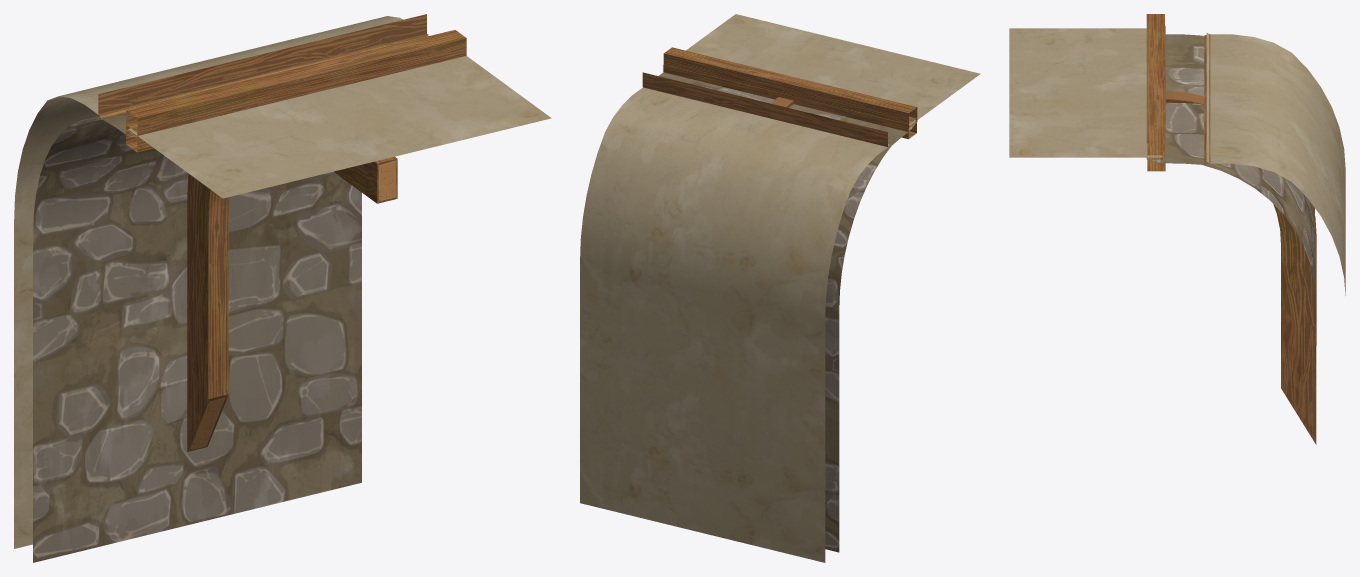
The model's file is Overhang_UnevenBrick_Long.gltf.
3 views of the same model, side by side, from view 1: azimuth 30°, elevation 25°; view 2: azimuth 150°, elevation 25°; view 3: azimuth 270°, elevation 25° (orthographic). The views are drawn at different scales.
Visible parts, largest first — view 1: Overhang_UnevenBrick_Long; view 2: Overhang_UnevenBrick_Long; view 3: Overhang_UnevenBrick_Long.
Part boxes in pixels (x1,y1,x2,y2): Overhang_UnevenBrick_Long: [14, 14, 551, 562]; Overhang_UnevenBrick_Long: [580, 14, 980, 562]; Overhang_UnevenBrick_Long: [1009, 14, 1345, 444].
Size of the model in its own units: 2 by 3.03 by 2.2.
Materials: 3 (3 with a texture image).
